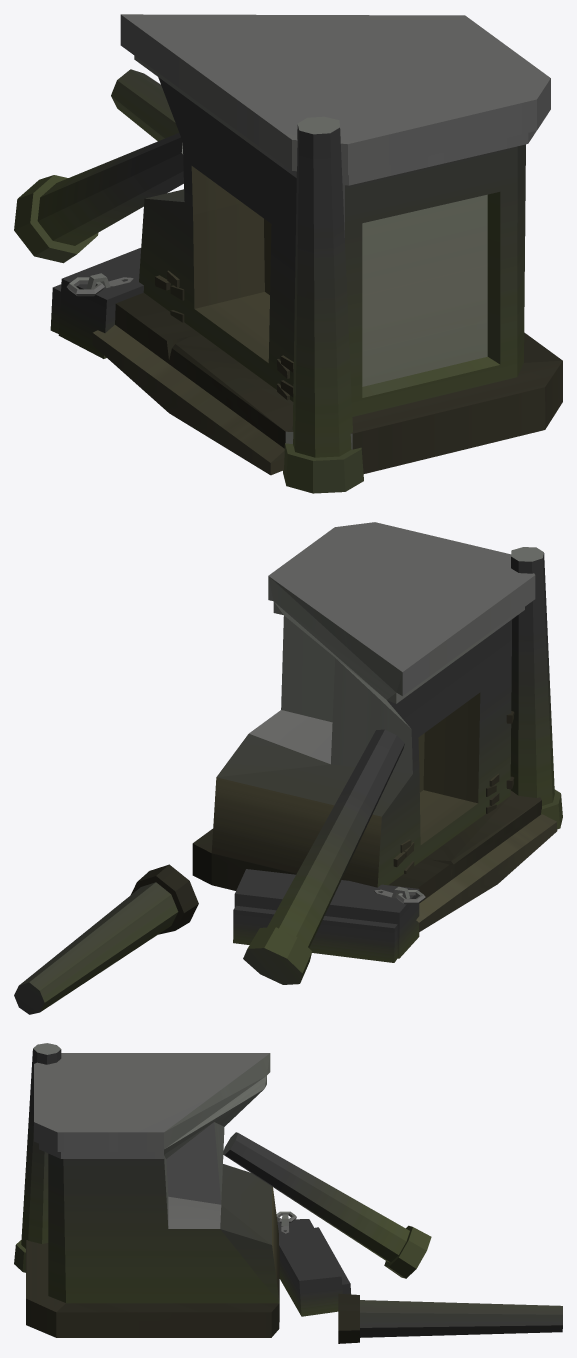
The model's file is ea_bld_tomb_mossy_ruined_01c_pre_lev1.glb.
3 views of the same model, one above another, from view 1: azimuth 30°, elevation 25°; view 2: azimuth 150°, elevation 25°; view 3: azimuth 270°, elevation 25° (orthographic). The views are drawn at different scales.
Visible parts, largest first — view 1: ea_bld_tomb_mossy_ruined_01c_pre_lev1; view 2: ea_bld_tomb_mossy_ruined_01c_pre_lev1; view 3: ea_bld_tomb_mossy_ruined_01c_pre_lev1.
Boxes of the visible parts, x1,y1,x2,y2 form: ea_bld_tomb_mossy_ruined_01c_pre_lev1: [14, 14, 562, 493]; ea_bld_tomb_mossy_ruined_01c_pre_lev1: [14, 522, 562, 1014]; ea_bld_tomb_mossy_ruined_01c_pre_lev1: [14, 1043, 562, 1343].
Size of the model in its own units: 3.08 by 3.35 by 7.36.
Materials: 1 (1 with a texture image).
